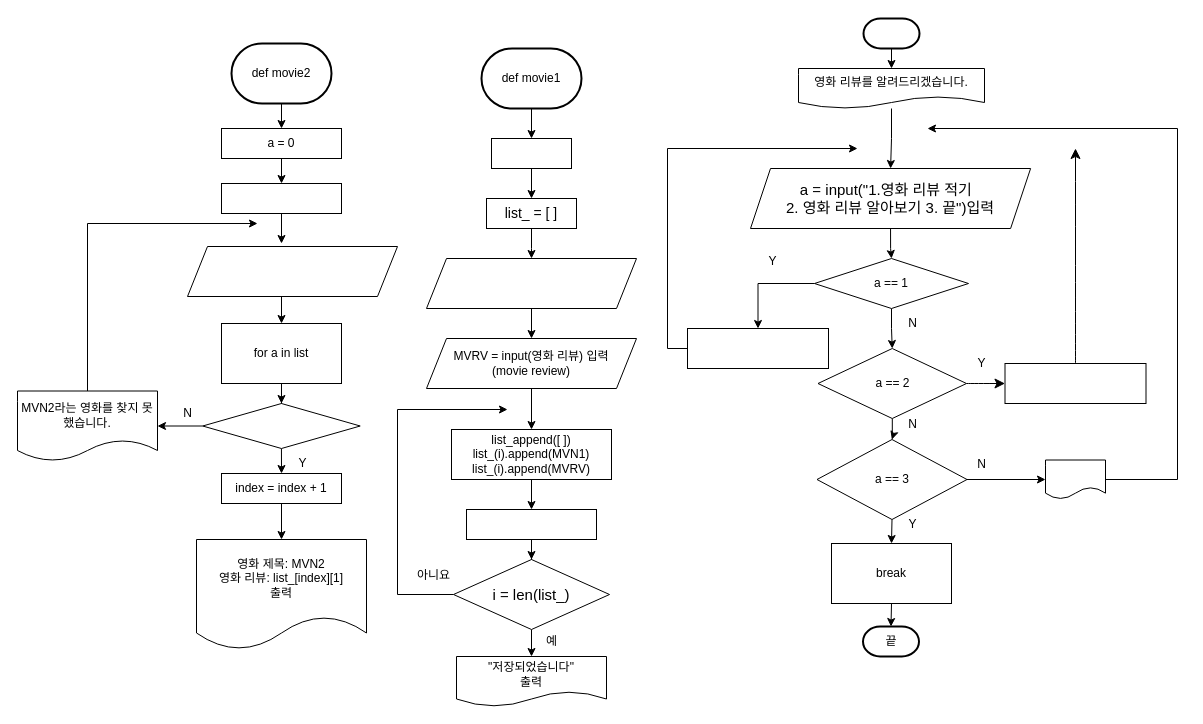
Some shapes in this 1203 by 724 pixel diagram are drawn without their labels. The shapes that lost their labels are listed below. From the top down, each one's centre as x and y in pixels, then its label:
At [891,33]: "시작".
At [531,153]: "i = 0".
At [281,198]: "index = 0".
At [292,271]: "MVN2 = input(영화 제목) 입력 (movie name)".
At [531,283]: "MVN1 = input(영화 제목) 입력 (movie name)".
At [757,348]: "movie1".
At [1075,383]: "movie2".
At [281,425]: "MVN2 in a".
At [1075,479]: "error".
At [531,524]: "i = i + 1".
